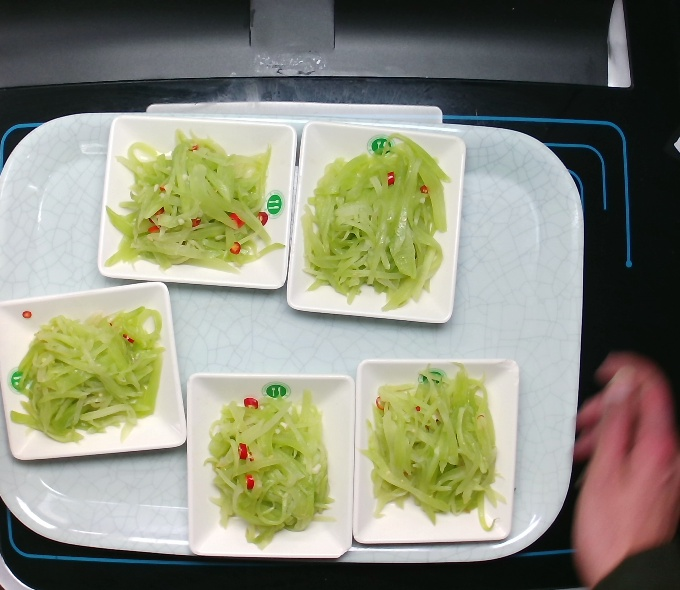wcq-YanWoSun: (107, 117, 281, 284), (298, 131, 449, 311), (354, 367, 508, 527), (1, 301, 174, 439), (198, 387, 334, 548)
